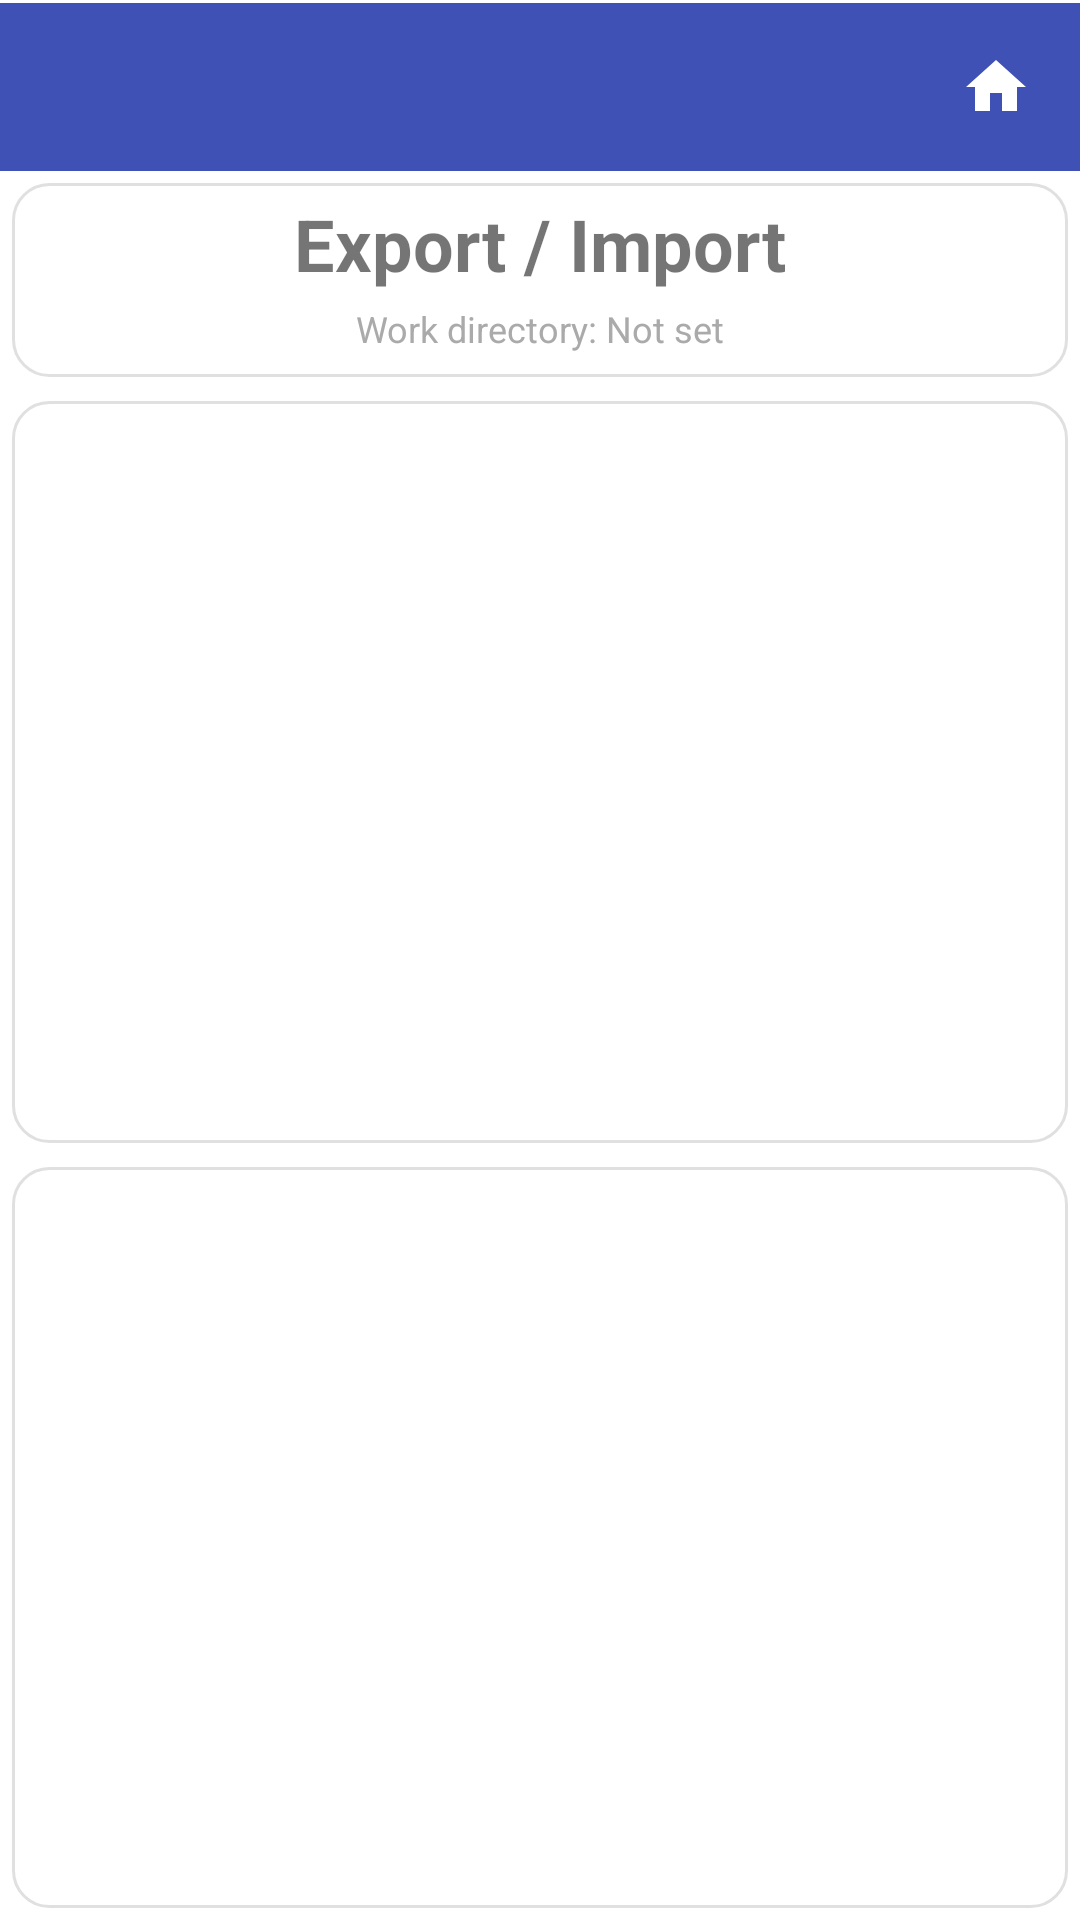

Icon click points for this 1080px×1920px phone screenshot, format [x,y]:
Home: [996,85]
